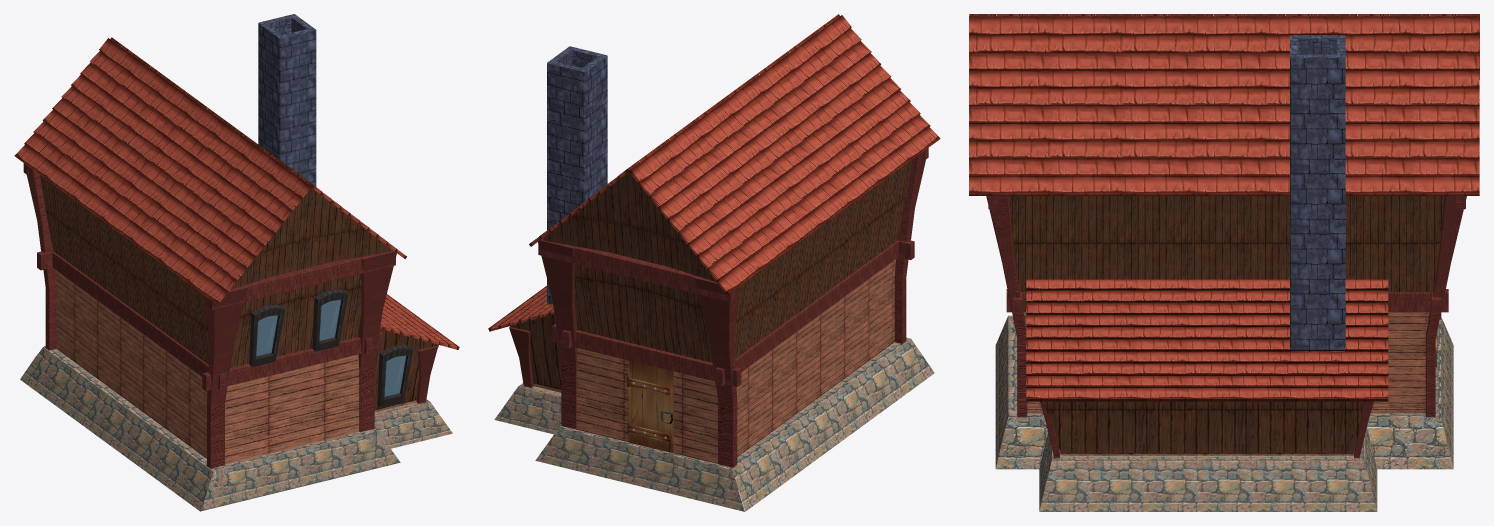
Rendered from building 2 new.FBX.
The picture shows the model from 3 angles, left to right: view 1: azimuth 30°, elevation 25°; view 2: azimuth 150°, elevation 25°; view 3: azimuth 270°, elevation 25°; orthographic projection. The views are drawn at different scales.
Parts seen in each view (by area): view 1: Box037, Plane665, Group005, Box913, Box938, Box914, Box915, Box916, Box917, Plane695, Box038, Plane666; view 2: Box037, Plane665, Group005, Box913, Box938, Box934, Box914, Box038, Plane666, Plane695; view 3: Plane666, Plane695, Box037, Box914, Box938, Box038, Box913, Group005, Plane665.
Boxes of the visible parts, x1=… form: Box037: x1=40, y1=175, x2=391, y2=464; Plane665: x1=14, y1=38, x2=311, y2=304; Group005: x1=23, y1=163, x2=437, y2=468; Box913: x1=20, y1=346, x2=400, y2=511; Box938: x1=258, y1=14, x2=316, y2=186; Box914: x1=374, y1=399, x2=452, y2=448; Box915: x1=249, y1=304, x2=284, y2=366; Box916: x1=312, y1=289, x2=347, y2=351; Box917: x1=377, y1=345, x2=412, y2=407; Plane695: x1=380, y1=294, x2=459, y2=349; Box038: x1=374, y1=329, x2=438, y2=411; Plane666: x1=110, y1=37, x2=406, y2=259; Box037: x1=543, y1=160, x2=911, y2=489; Plane665: x1=629, y1=15, x2=940, y2=294; Group005: x1=509, y1=148, x2=928, y2=467; Box913: x1=535, y1=337, x2=934, y2=511; Box938: x1=547, y1=46, x2=607, y2=304; Box934: x1=627, y1=360, x2=673, y2=453; Box914: x1=494, y1=383, x2=561, y2=434; Box038: x1=510, y1=314, x2=561, y2=392; Plane666: x1=529, y1=14, x2=839, y2=246; Plane695: x1=488, y1=286, x2=554, y2=331; Plane666: x1=969, y1=16, x2=1479, y2=195; Plane695: x1=1026, y1=279, x2=1388, y2=401; Box037: x1=1009, y1=196, x2=1444, y2=413; Box914: x1=1039, y1=428, x2=1377, y2=511; Box938: x1=1290, y1=35, x2=1345, y2=351; Box038: x1=1044, y1=401, x2=1362, y2=455; Box913: x1=995, y1=315, x2=1453, y2=469; Group005: x1=986, y1=196, x2=1466, y2=458; Plane665: x1=969, y1=14, x2=1479, y2=79.
Size of the model in its own units: 636 by 764 by 820.
